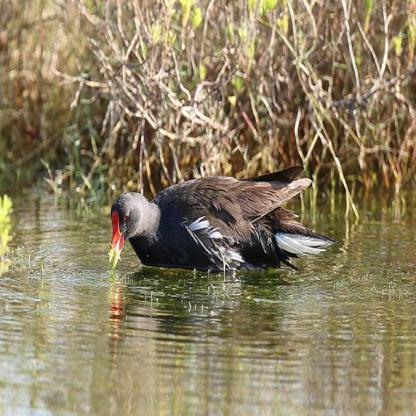Burung: (108, 165, 336, 271)
